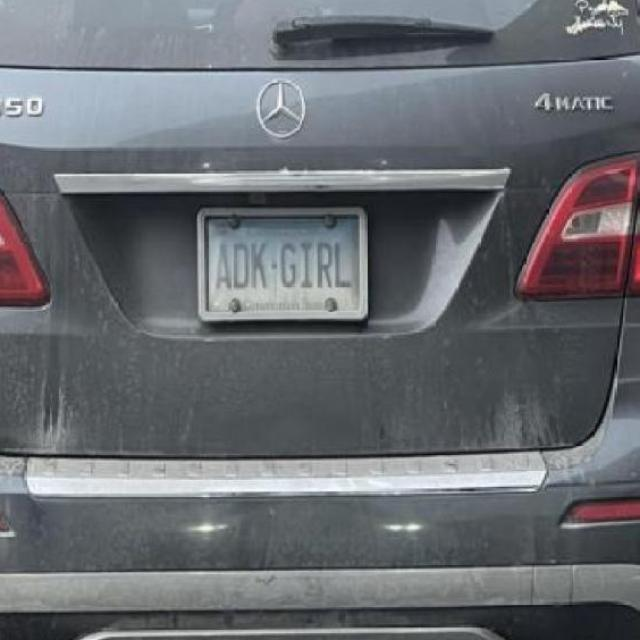license-plate: (207, 217, 371, 326)
